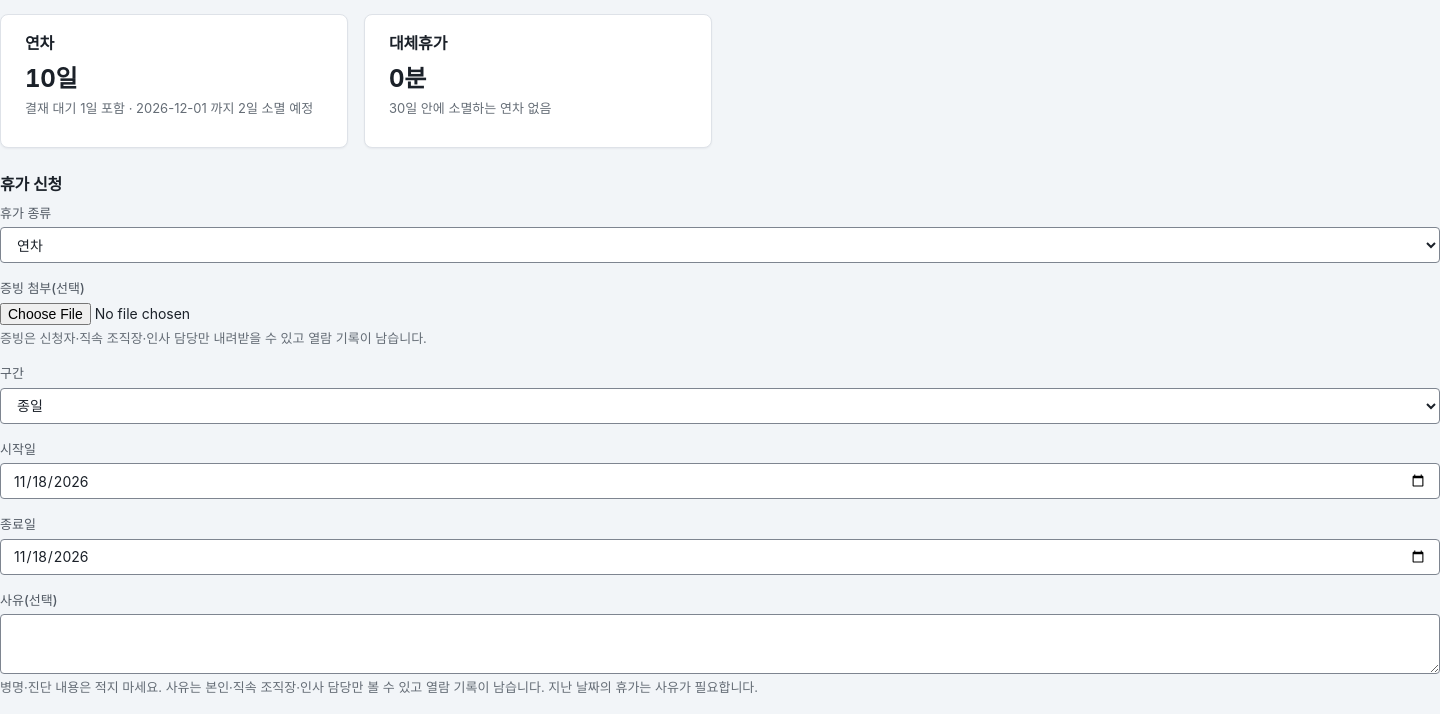
내 휴가 화면(B50) › 시간 지정은 시각 칸을 보이고 보낸다. 서버 거부 문구는 업무 문구로 보인다
Expected: the element named "연차 잔여" is shown, top-left (0, 14), bottom-right (348, 148)
Select "시간 지정" in the dropdown labelled "구간" at (720, 406), box top-left (0, 388), bottom-right (1439, 424)
(page scrolled)
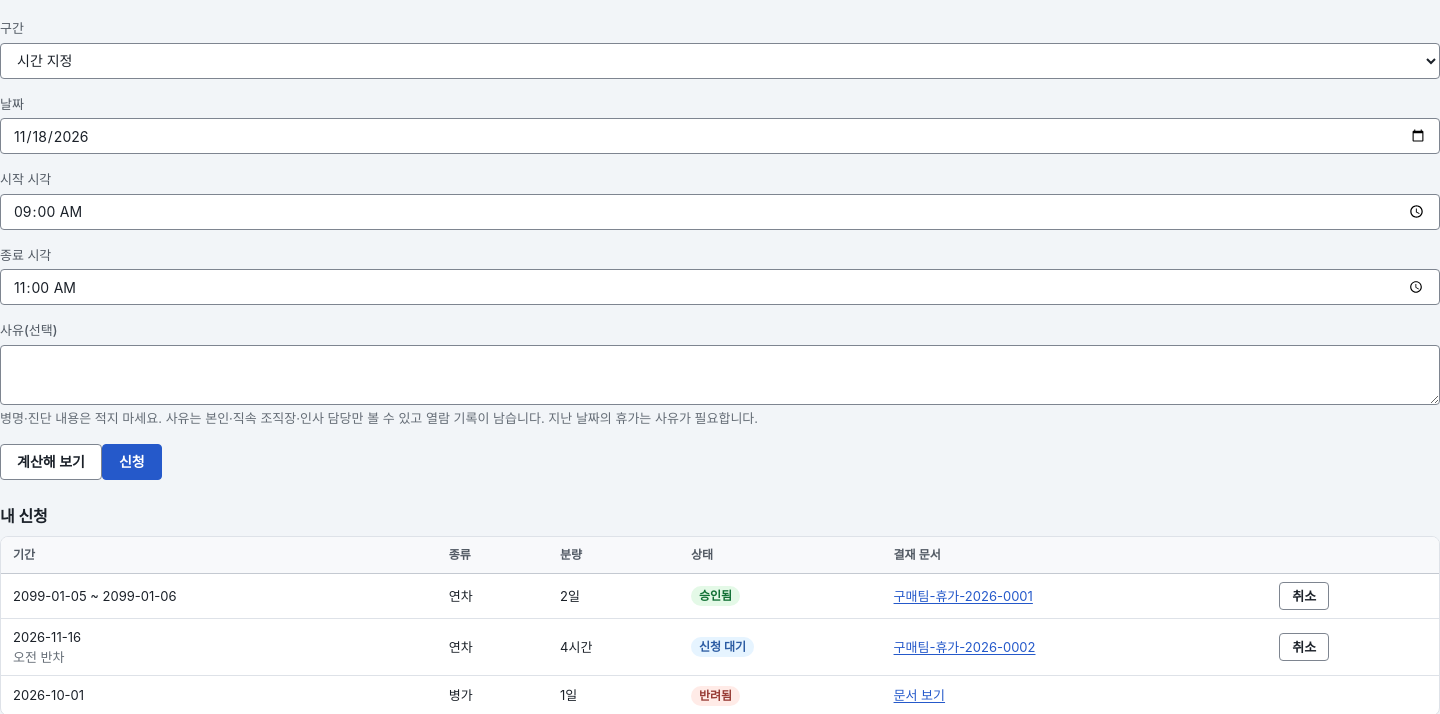
Now the time field labelled "시작 시각" is shown, box top-left (0, 194), bottom-right (1439, 230)
Now the label labelled "종료일" is gone
Click the button "신청".
click(132, 462)  # box top-left (102, 444), bottom-right (162, 480)
(page scrolled)
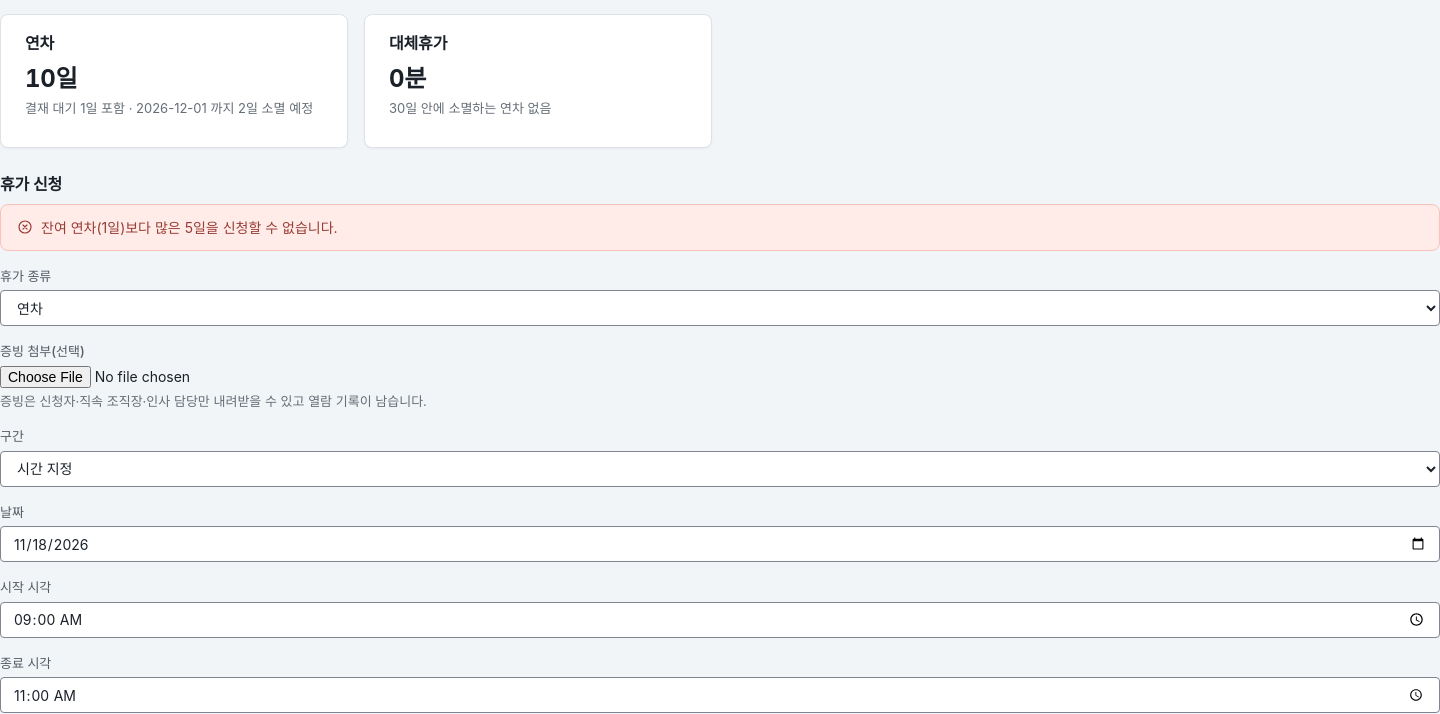
Now the text "잔여 연차(1일)보다 많은 5일을 신청할 수 없습니다." is shown, box top-left (41, 216), bottom-right (338, 238)
